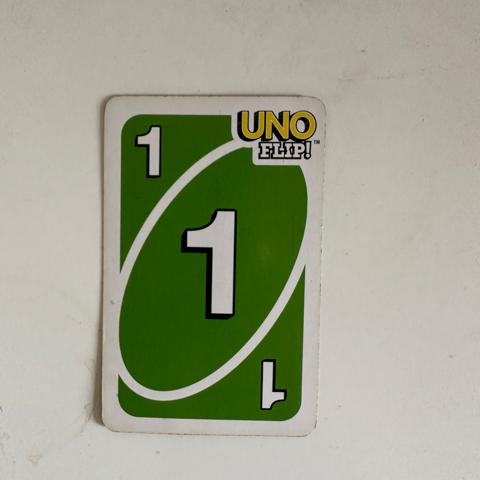7_yellow: (179, 209, 241, 320), (257, 352, 288, 411), (134, 124, 166, 179)
